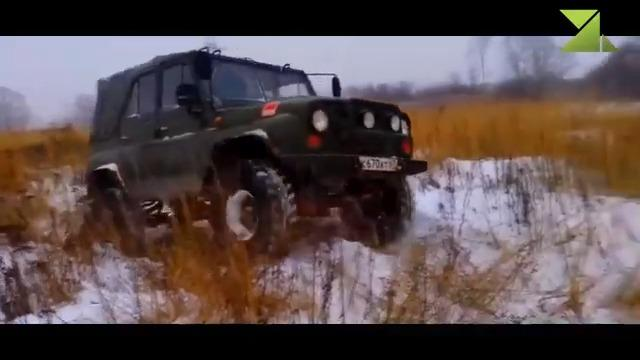MIL_HMMWV: (82, 48, 432, 252)
